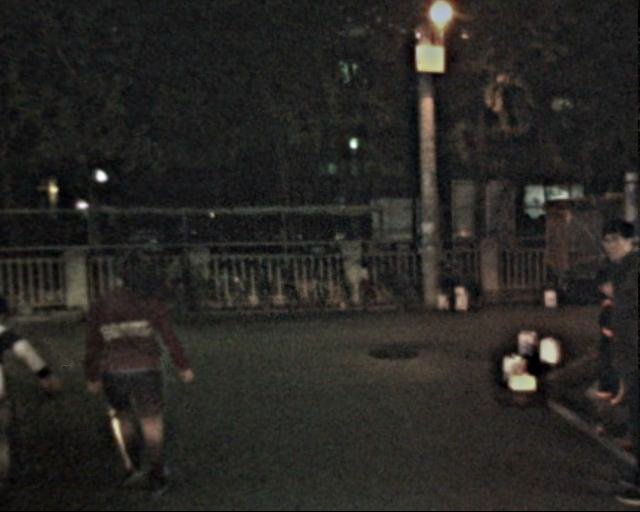person: (91, 246, 189, 485), (561, 219, 640, 503), (1, 286, 44, 498)
